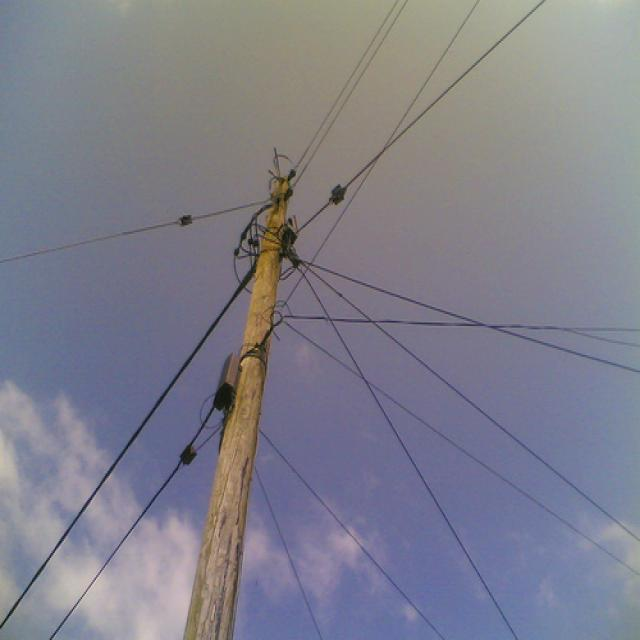pole: (184, 171, 298, 639)
wire: (285, 319, 640, 578), (0, 268, 253, 631), (312, 267, 639, 543), (291, 257, 525, 640), (293, 0, 551, 245), (282, 0, 483, 313), (46, 364, 237, 640), (257, 422, 448, 640), (306, 265, 640, 375), (295, 0, 414, 184), (0, 198, 265, 261), (282, 313, 636, 332)
